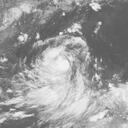cyclone: (23, 35, 92, 102)
